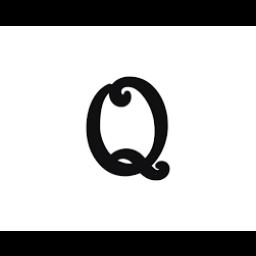q: (82, 66, 176, 184)
